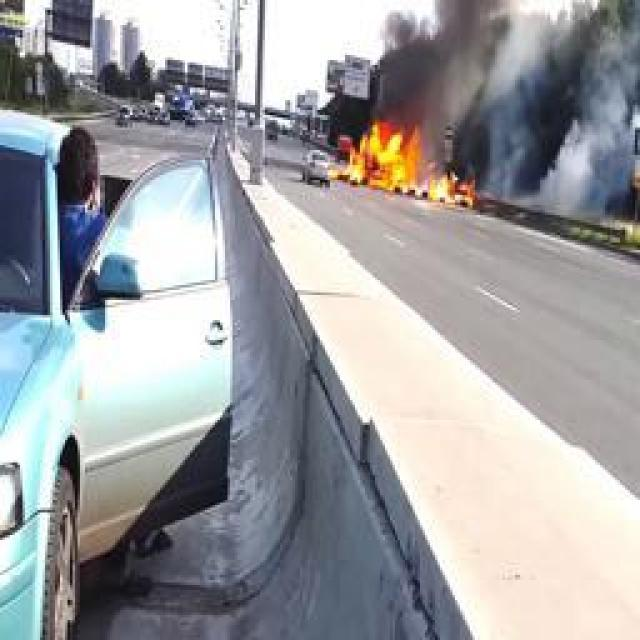Fire: (341, 119, 474, 209)
